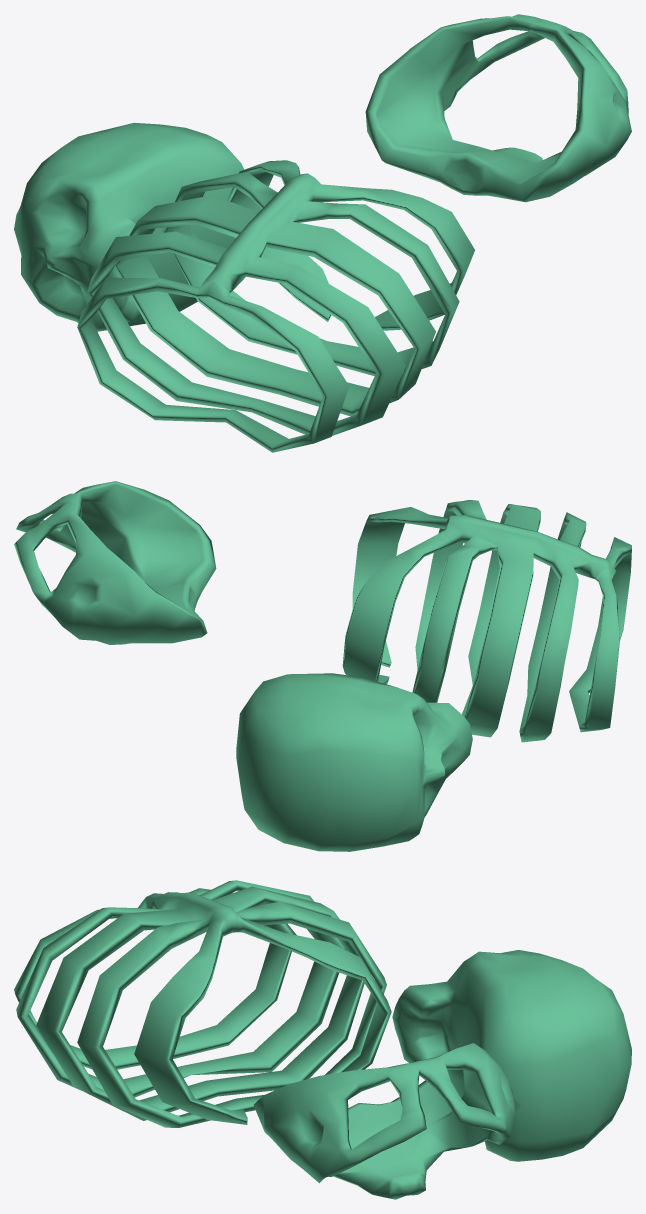
Rendered from Coffin_05B_Lod1.fbx.
The picture shows the model from 3 angles, top to bottom: view 1: azimuth 30°, elevation 25°; view 2: azimuth 150°, elevation 25°; view 3: azimuth 270°, elevation 25°; orthographic projection. The views are drawn at different scales.
Visible parts, largest first — view 1: Coffin_05B_Lod1; view 2: Coffin_05B_Lod1; view 3: Coffin_05B_Lod1.
Boxes of the visible parts, box(x1,y1,x2,y2) form: Coffin_05B_Lod1: box(14, 14, 631, 452); Coffin_05B_Lod1: box(14, 481, 631, 851); Coffin_05B_Lod1: box(14, 880, 631, 1199).
Size of the model in its own units: 50.63 by 20.03 by 46.54.
